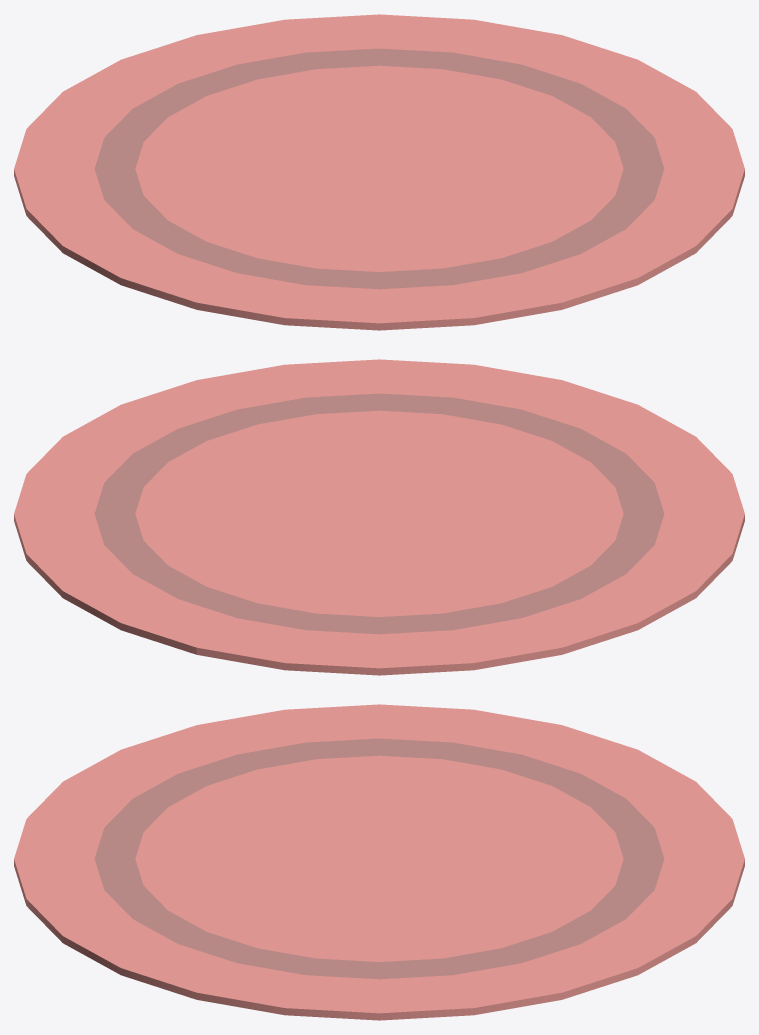
The model's file is rugRound.gltf.
3 views of the same model, one above another, from view 1: azimuth 30°, elevation 25°; view 2: azimuth 150°, elevation 25°; view 3: azimuth 270°, elevation 25° (orthographic).
Visible parts, largest first — view 1: rugRound(Clone); view 2: rugRound(Clone); view 3: rugRound(Clone).
Part boxes in pixels (x1=…): rugRound(Clone): x1=14, y1=14, x2=744, y2=330; rugRound(Clone): x1=14, y1=359, x2=744, y2=675; rugRound(Clone): x1=14, y1=704, x2=744, y2=1020.
Bounding box in the file's own units: 0.92 × 0.01 × 0.92.
